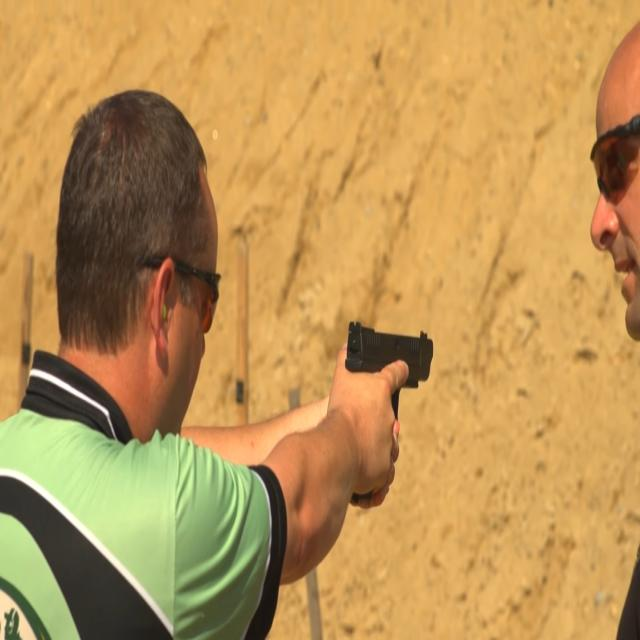Gun_Holder: (333, 294, 449, 479)
Person: (3, 90, 393, 640)
